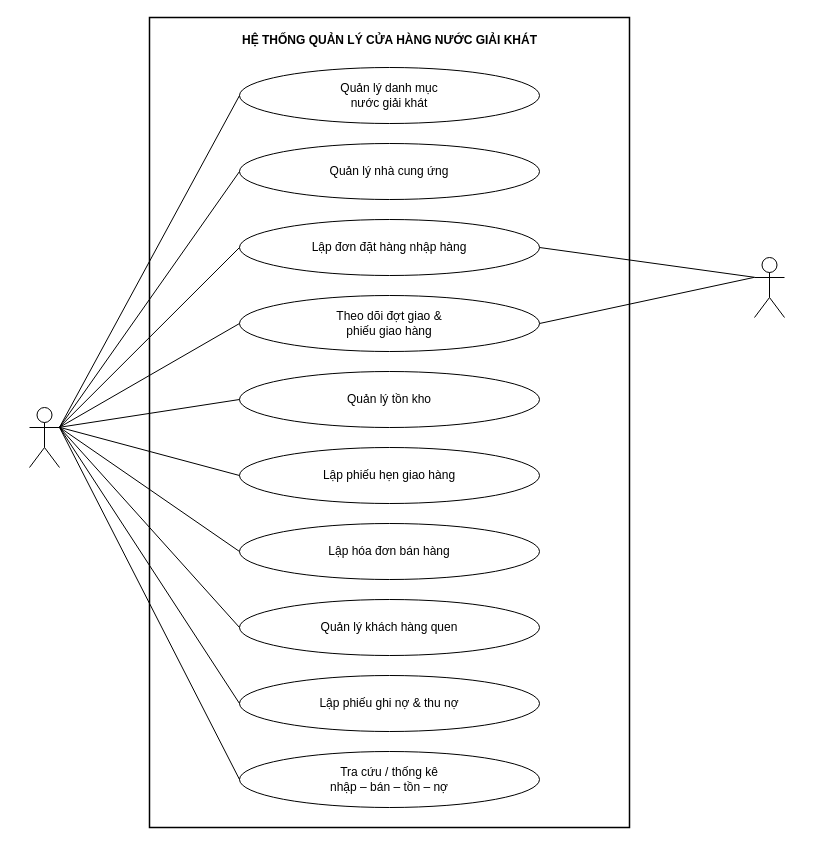
Some shapes in this 824 by 846 pixel diagram are drawn without their labels. Here are the shapes that lost their labels. From the top down, the centre of each, then its label:
the point at 769,287: Nhà cung ứng
the point at 44,437: Nhân viên cửa hàng
